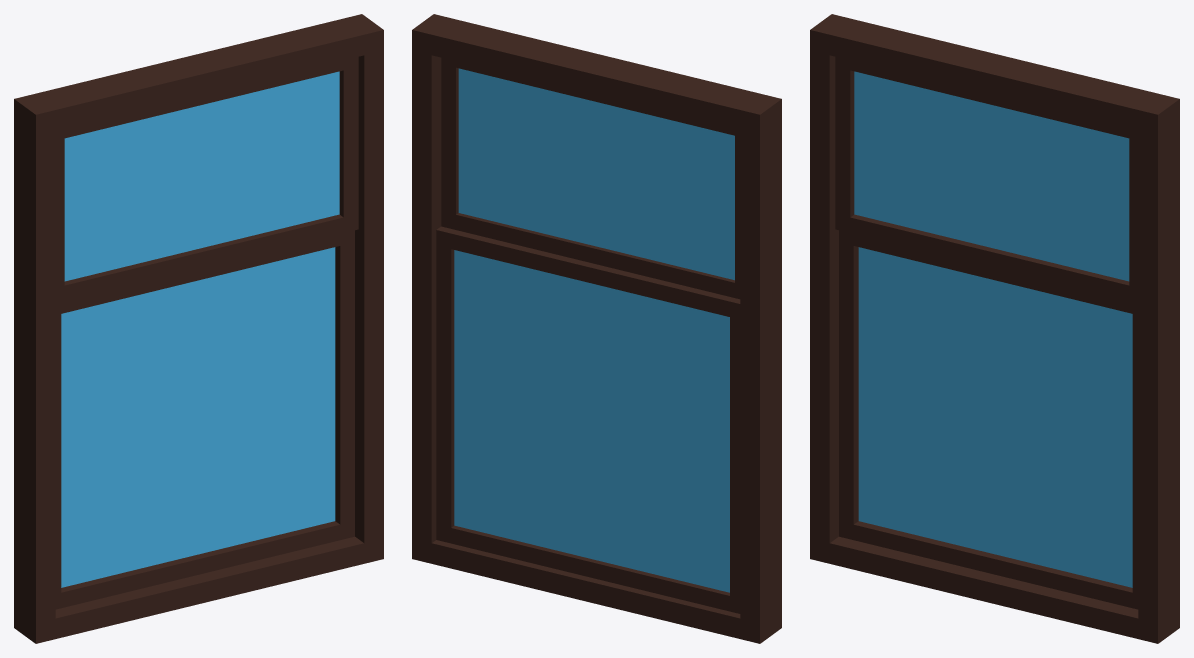
File: cuaso.001.fbx
3 renders of one model, left to right at view 1: azimuth 30°, elevation 25°; view 2: azimuth 150°, elevation 25°; view 3: azimuth 330°, elevation 25°, orthographic.
Parts seen in each view (by area): view 1: cuaso.001; view 2: cuaso.001; view 3: cuaso.001.
Boxes of the visible parts, <box> form: cuaso.001: <box>14,14,383,643</box>; cuaso.001: <box>412,14,781,643</box>; cuaso.001: <box>810,14,1179,643</box>.
Size of the model in its own units: 200 by 291 by 21.66.
